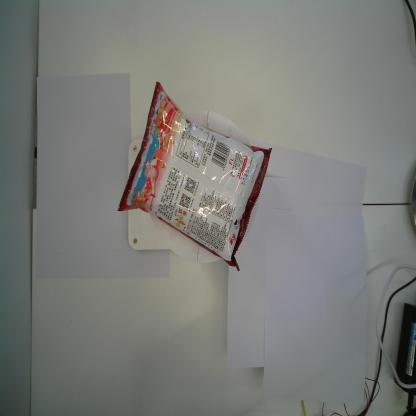Puffed Food: (117, 79, 272, 273)
